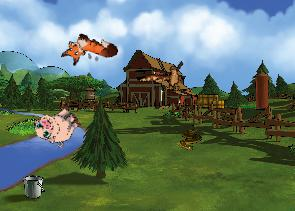eagle: (136, 49, 195, 106)
fox: (59, 27, 119, 77)
pig: (29, 97, 85, 153)
